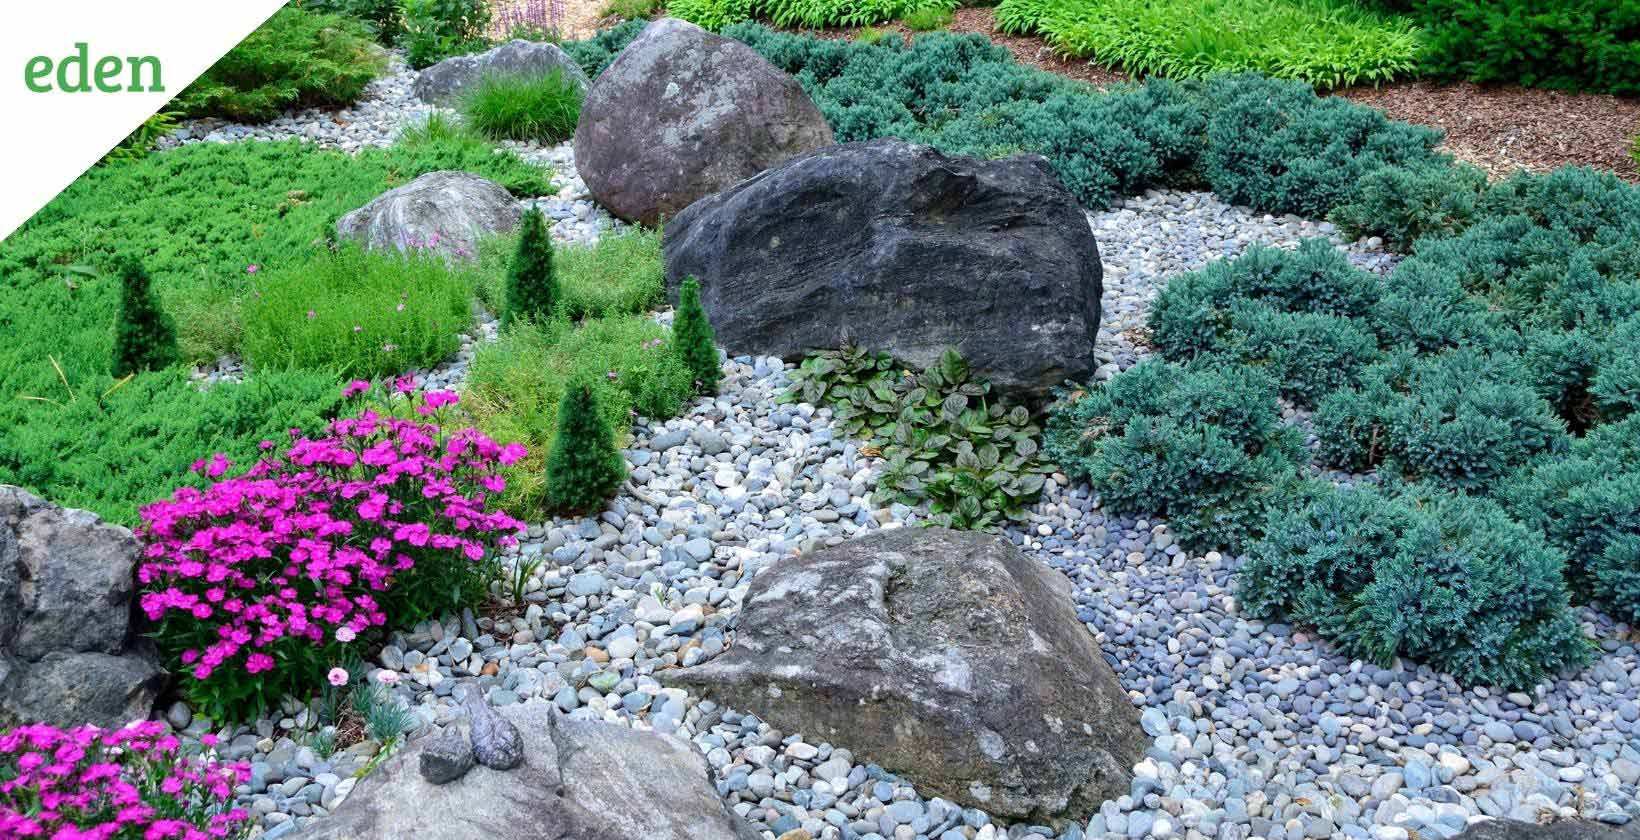rock: (610, 476, 1276, 837), (657, 151, 1120, 403), (313, 554, 612, 839), (1292, 641, 1627, 828), (573, 22, 838, 229), (2, 481, 183, 724), (330, 176, 520, 271), (419, 42, 567, 106)
